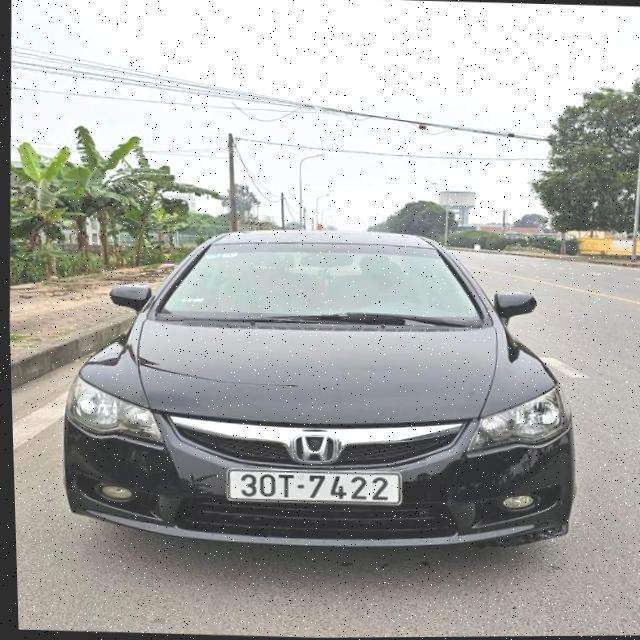car: (55, 214, 586, 571)
plate: (225, 458, 405, 513)
